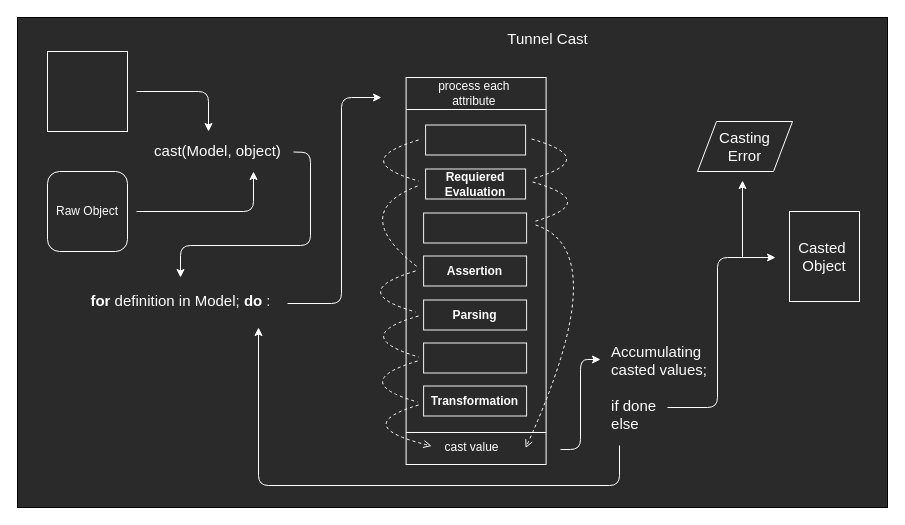
This 905x525 diagram has some shape labels left out. The centre of each missing label's shape, as x and y in pixels:
Defaulting: point (475, 227)
Model Class: point (87, 91)
Validation: point (475, 357)
Value Extraction: point (475, 139)
